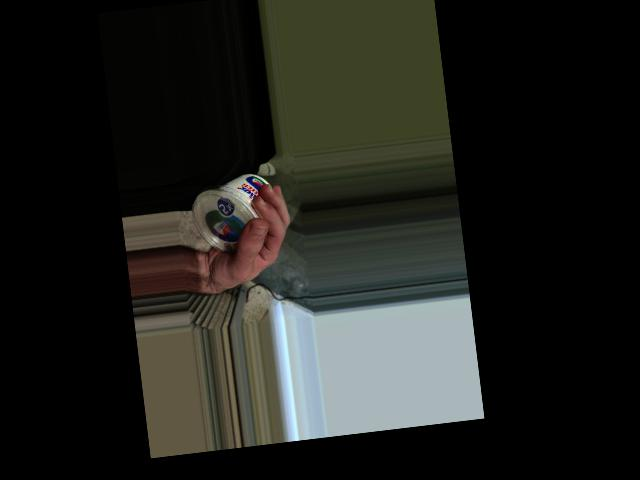cotage: (185, 171, 282, 255)
